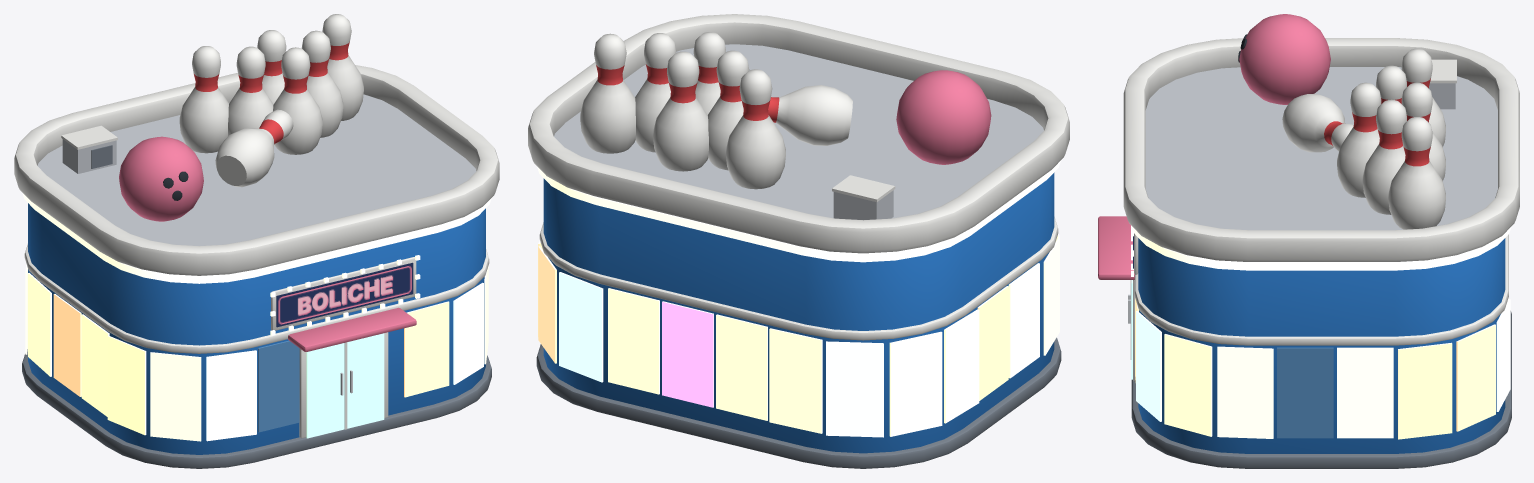
File: boliche.glb
The picture shows the model from 3 angles, left to right: view 1: azimuth 30°, elevation 25°; view 2: azimuth 150°, elevation 25°; view 3: azimuth 270°, elevation 25°; orthographic projection. The views are drawn at different scales.
Parts seen in each view (by area): view 1: boliche; view 2: boliche; view 3: boliche.
Boxes of the visible parts, x1,y1,x2,y2 form: boliche: (14,14,499,468); boliche: (528,14,1069,468); boliche: (1098,14,1519,468).
Size of the model in its own units: 13 by 9.6 by 11.5.
9 materials, 2 textured.
